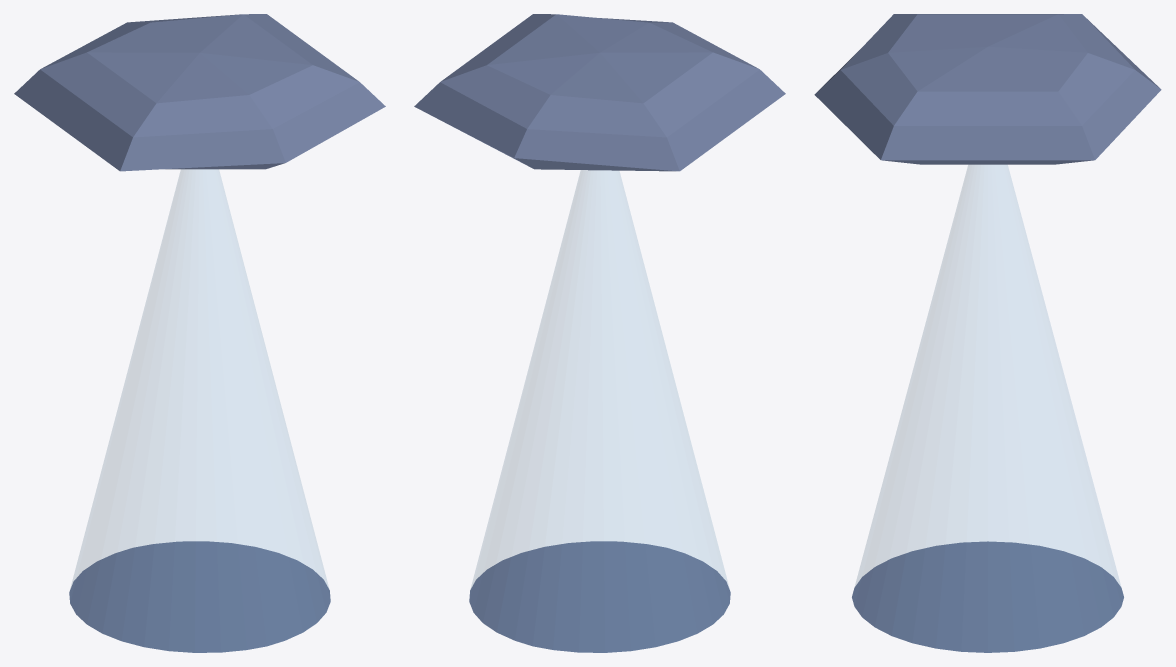
File: spawner.glb
3 views of the same model, side by side, from view 1: azimuth 30°, elevation 25°; view 2: azimuth 150°, elevation 25°; view 3: azimuth 270°, elevation 25° (orthographic).
Visible parts, largest first — view 1: Sphere; view 2: Sphere; view 3: Sphere.
Part boxes in pixels (bbox=[...]): Sphere: bbox=[14, 14, 385, 652]; Sphere: bbox=[414, 14, 785, 652]; Sphere: bbox=[814, 14, 1161, 652].
Size of the model in its own units: 4.56 by 8.92 by 5.1.
